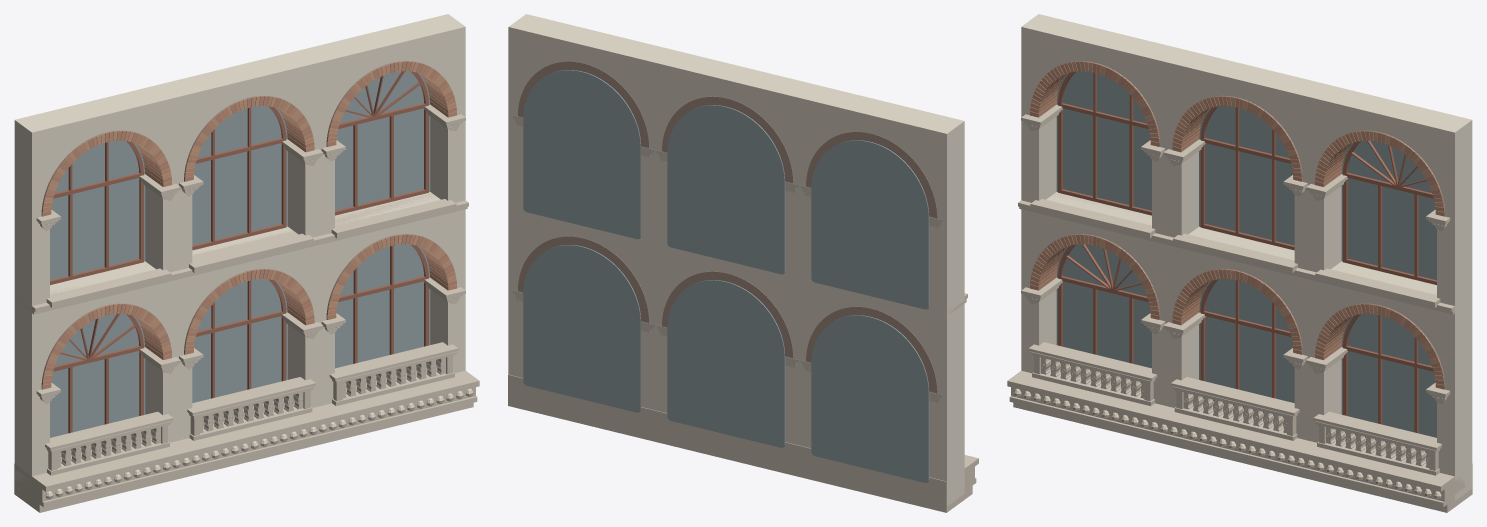
Rendered from huangpu-qianxin-building-historic-front-raw.glb.
3 renders of one model, left to right at view 1: azimuth 30°, elevation 25°; view 2: azimuth 150°, elevation 25°; view 3: azimuth 330°, elevation 25°, orthographic.
Visible parts, largest first — view 1: 谦信大楼江西中路中央六券窗廊; view 2: 谦信大楼江西中路中央六券窗廊; view 3: 谦信大楼江西中路中央六券窗廊.
Part boxes in pixels (x1,y1,x2,y2): 谦信大楼江西中路中央六券窗廊: (14, 14, 479, 512); 谦信大楼江西中路中央六券窗廊: (508, 14, 978, 512); 谦信大楼江西中路中央六券窗廊: (1007, 14, 1472, 512).
Size of the model in its own units: 9.68 by 7.99 by 1.28.
